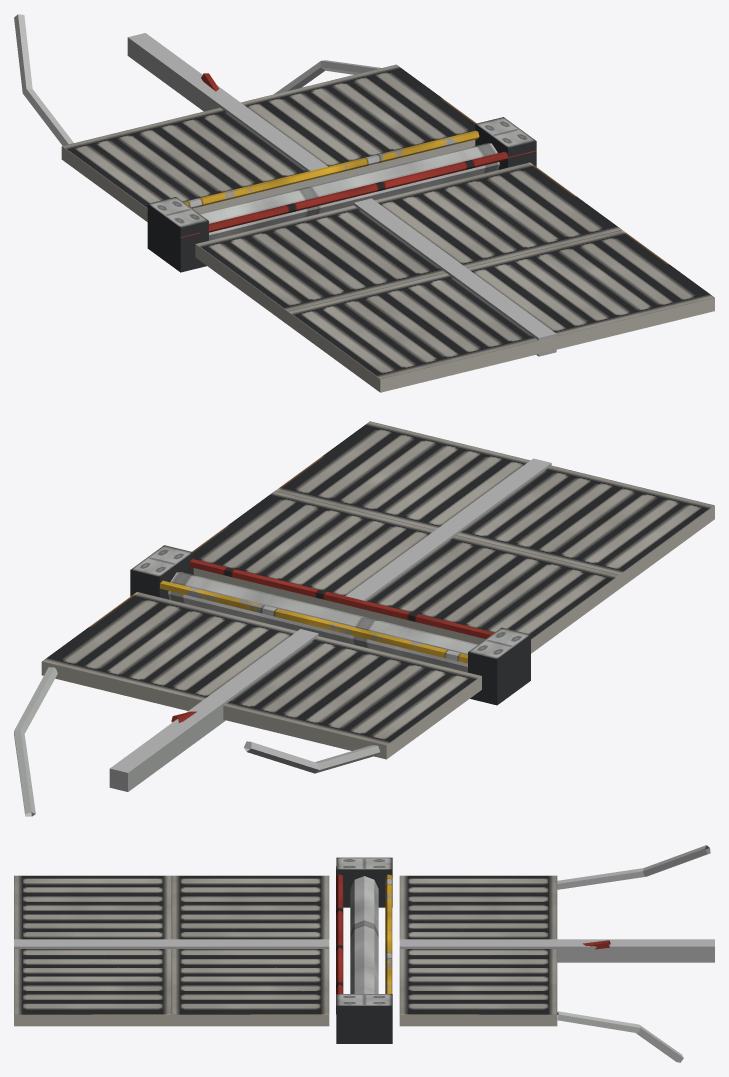
The model's file is wing_radiator_torn.fbx.
3 views of the same model, one above another, from view 1: azimuth 30°, elevation 25°; view 2: azimuth 150°, elevation 25°; view 3: azimuth 270°, elevation 25° (orthographic). The views are drawn at different scales.
Visible parts, largest first — view 1: wing_radiator_torn; view 2: wing_radiator_torn; view 3: wing_radiator_torn.
Boxes of the visible parts, <box> form: wing_radiator_torn: <box>14,14,714,392</box>; wing_radiator_torn: <box>14,421,714,816</box>; wing_radiator_torn: <box>14,845,714,1062</box>.
Size of the model in its own units: 1 by 0.3809 by 2.
1 material, 1 textured.
